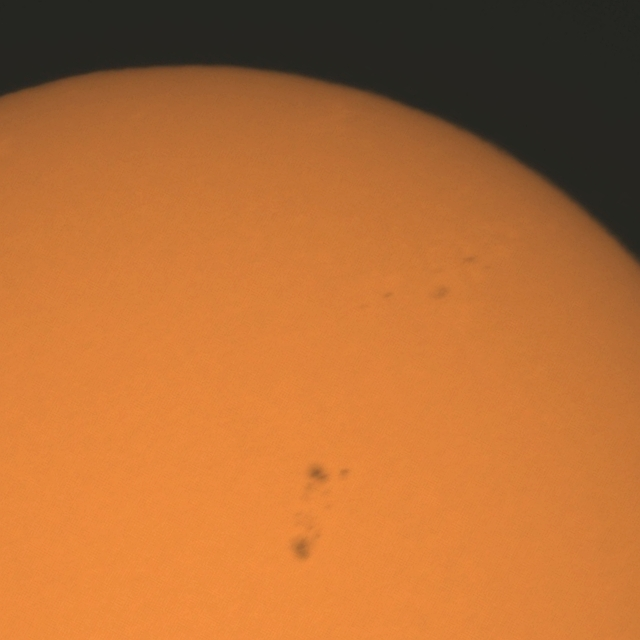sunspot: (308, 465, 352, 487), (289, 531, 316, 563)
